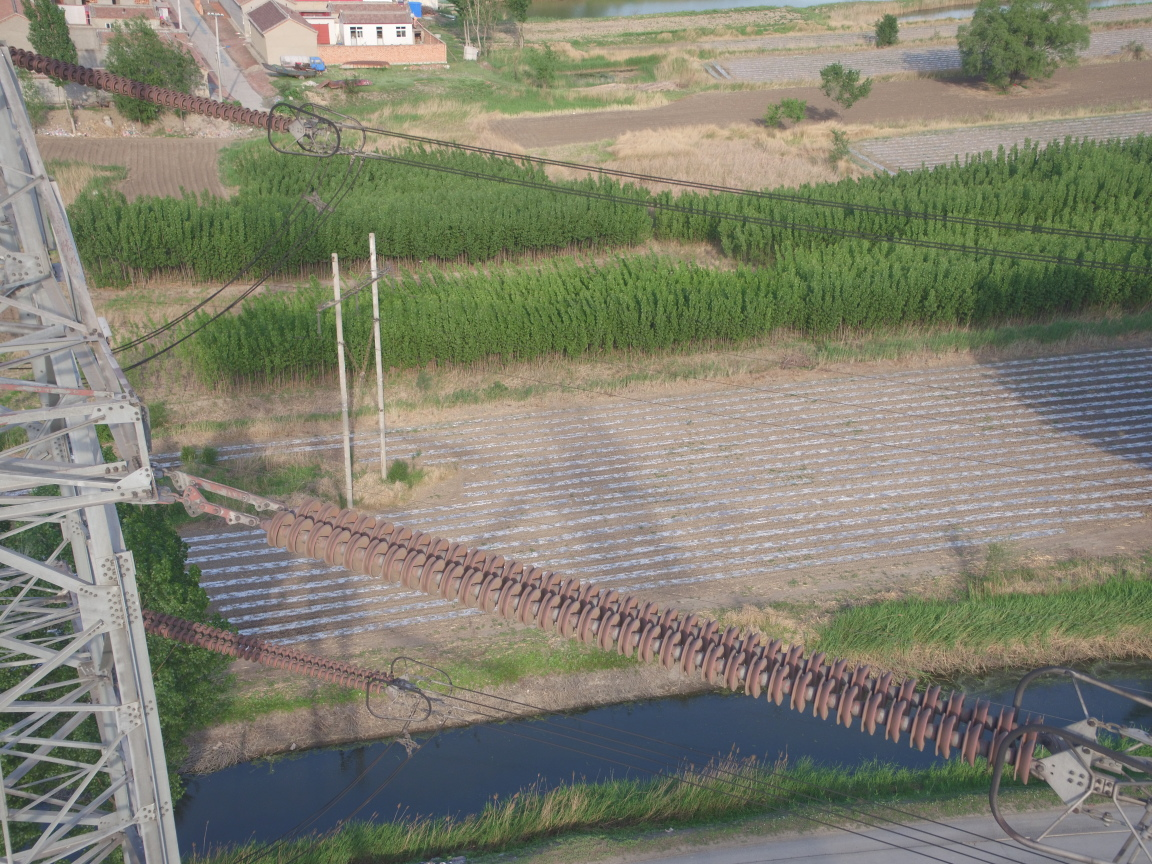insulator: (246, 486, 1062, 788), (5, 43, 295, 142), (140, 604, 396, 697)
